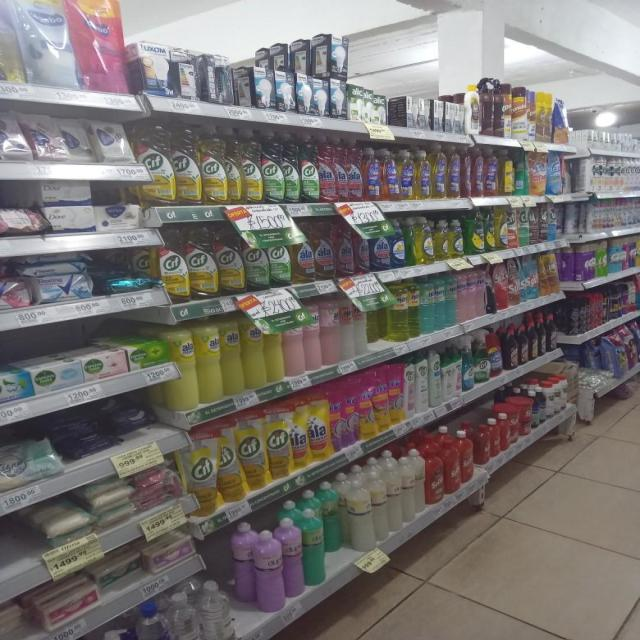ala_conc_amarillo: (292, 221, 314, 284), (314, 218, 334, 280)
ala_conc_azul: (370, 222, 390, 272)
ala_conc_rojo: (317, 134, 334, 203), (335, 219, 353, 278), (348, 138, 363, 202), (334, 136, 348, 202), (364, 148, 381, 202), (354, 220, 370, 274)
ala_crem_amarillo: (166, 326, 197, 411), (197, 320, 221, 404), (221, 317, 243, 396), (243, 315, 265, 390), (266, 314, 284, 384)
ala_crem_rosado: (284, 309, 304, 378), (322, 297, 341, 368), (305, 304, 321, 372)
ala_sachet_amarillo: (309, 392, 330, 462), (292, 398, 308, 470)
cif_conc_bot_amarilla: (139, 120, 173, 206), (173, 123, 200, 206), (158, 227, 187, 303), (188, 226, 217, 299), (201, 124, 226, 206), (218, 226, 243, 295), (241, 128, 261, 205), (227, 126, 241, 204)
cif_conc_botella_verde: (262, 129, 283, 204), (244, 227, 268, 291), (269, 226, 291, 287), (300, 132, 318, 203), (283, 131, 300, 203)
cif_conc_sachet_amarillo: (185, 431, 217, 517), (240, 411, 266, 492), (266, 405, 290, 481), (218, 420, 240, 502)
drive: (359, 375, 375, 442), (343, 380, 358, 450), (390, 363, 404, 427), (376, 369, 389, 435), (332, 385, 344, 454)
esencial: (254, 525, 284, 613), (372, 457, 388, 546), (387, 450, 402, 538)
magistral_con_amarillo: (413, 217, 434, 265)
magistral_con_azul: (391, 220, 406, 268)
zorro: (398, 149, 415, 201), (432, 144, 447, 199), (382, 148, 397, 202), (416, 149, 430, 200), (448, 144, 460, 199)
